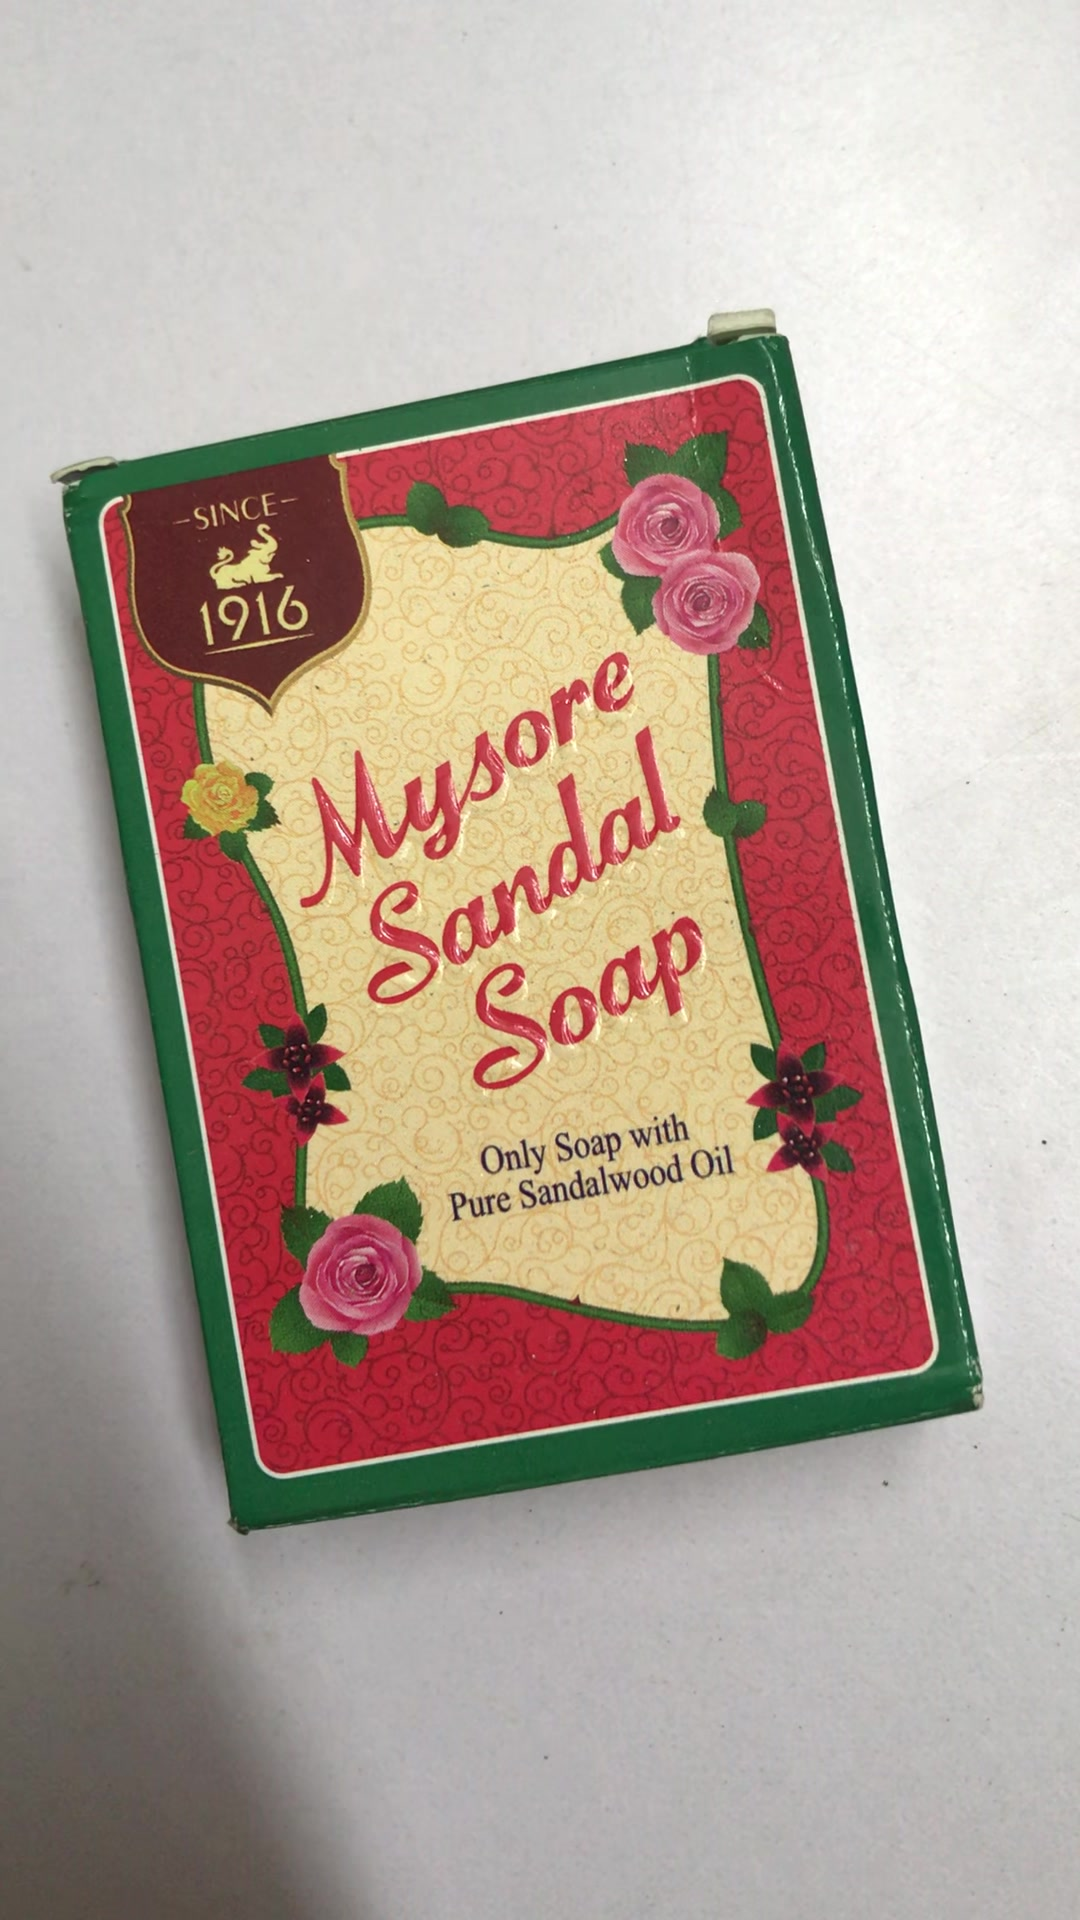mysore sandal soap: (70, 336, 984, 1538)
